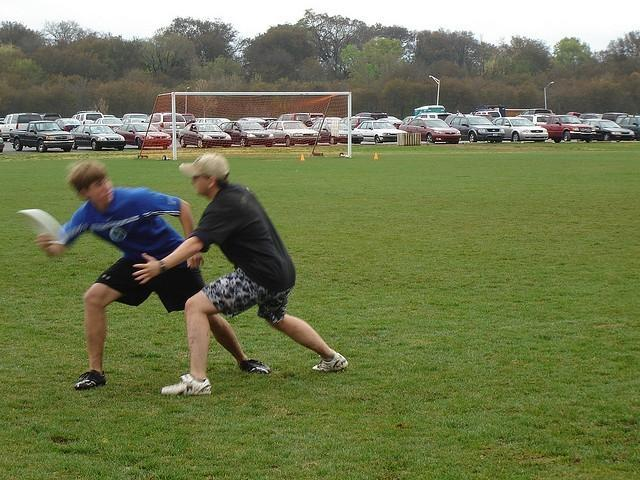car: (444, 114, 507, 144), (398, 117, 462, 144), (265, 120, 322, 148), (70, 124, 126, 152), (115, 123, 173, 150), (308, 121, 365, 146), (178, 123, 232, 149), (220, 122, 274, 147), (492, 118, 548, 142), (354, 120, 407, 145), (580, 119, 634, 141), (91, 118, 122, 132), (122, 118, 148, 125)
truck: (8, 121, 74, 153), (536, 114, 596, 144), (0, 113, 42, 141)
